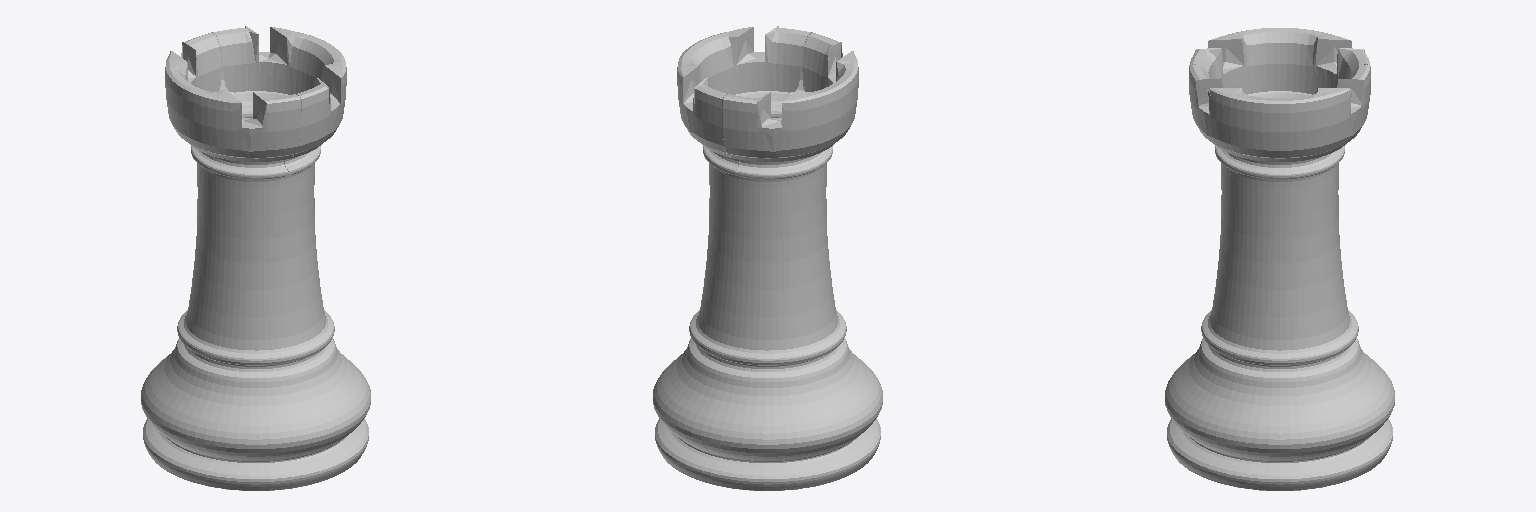
File: rook.obj
The picture shows the model from 3 angles: view 1: azimuth 30°, elevation 25°; view 2: azimuth 150°, elevation 25°; view 3: azimuth 270°, elevation 25°; orthographic projection.
Visible parts, largest first — view 1: rook_white_1_Cylinder.031; view 2: rook_white_1_Cylinder.031; view 3: rook_white_1_Cylinder.031.
Boxes of the visible parts, x1=… form: rook_white_1_Cylinder.031: x1=141, y1=26, x2=370, y2=490; rook_white_1_Cylinder.031: x1=653, y1=26, x2=882, y2=490; rook_white_1_Cylinder.031: x1=1165, y1=28, x2=1394, y2=490.
Size of the model in its own units: 1.18 by 2.18 by 1.18.